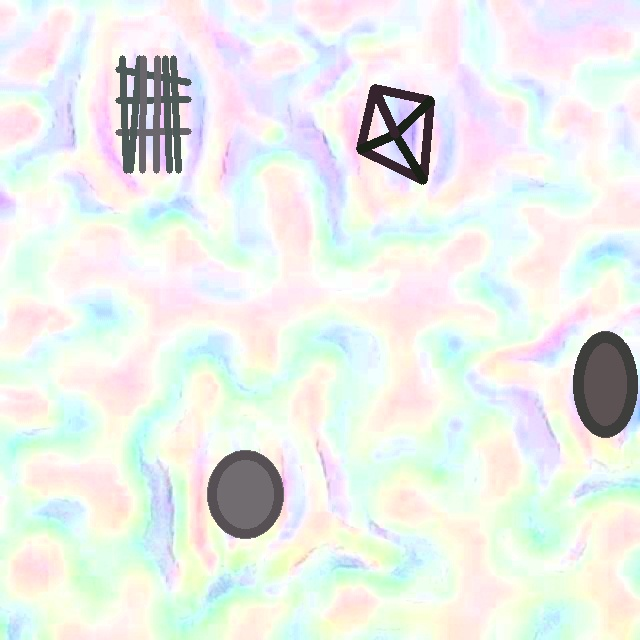open: (115, 56, 190, 172), (356, 84, 434, 183), (572, 331, 637, 438), (207, 450, 283, 538)
